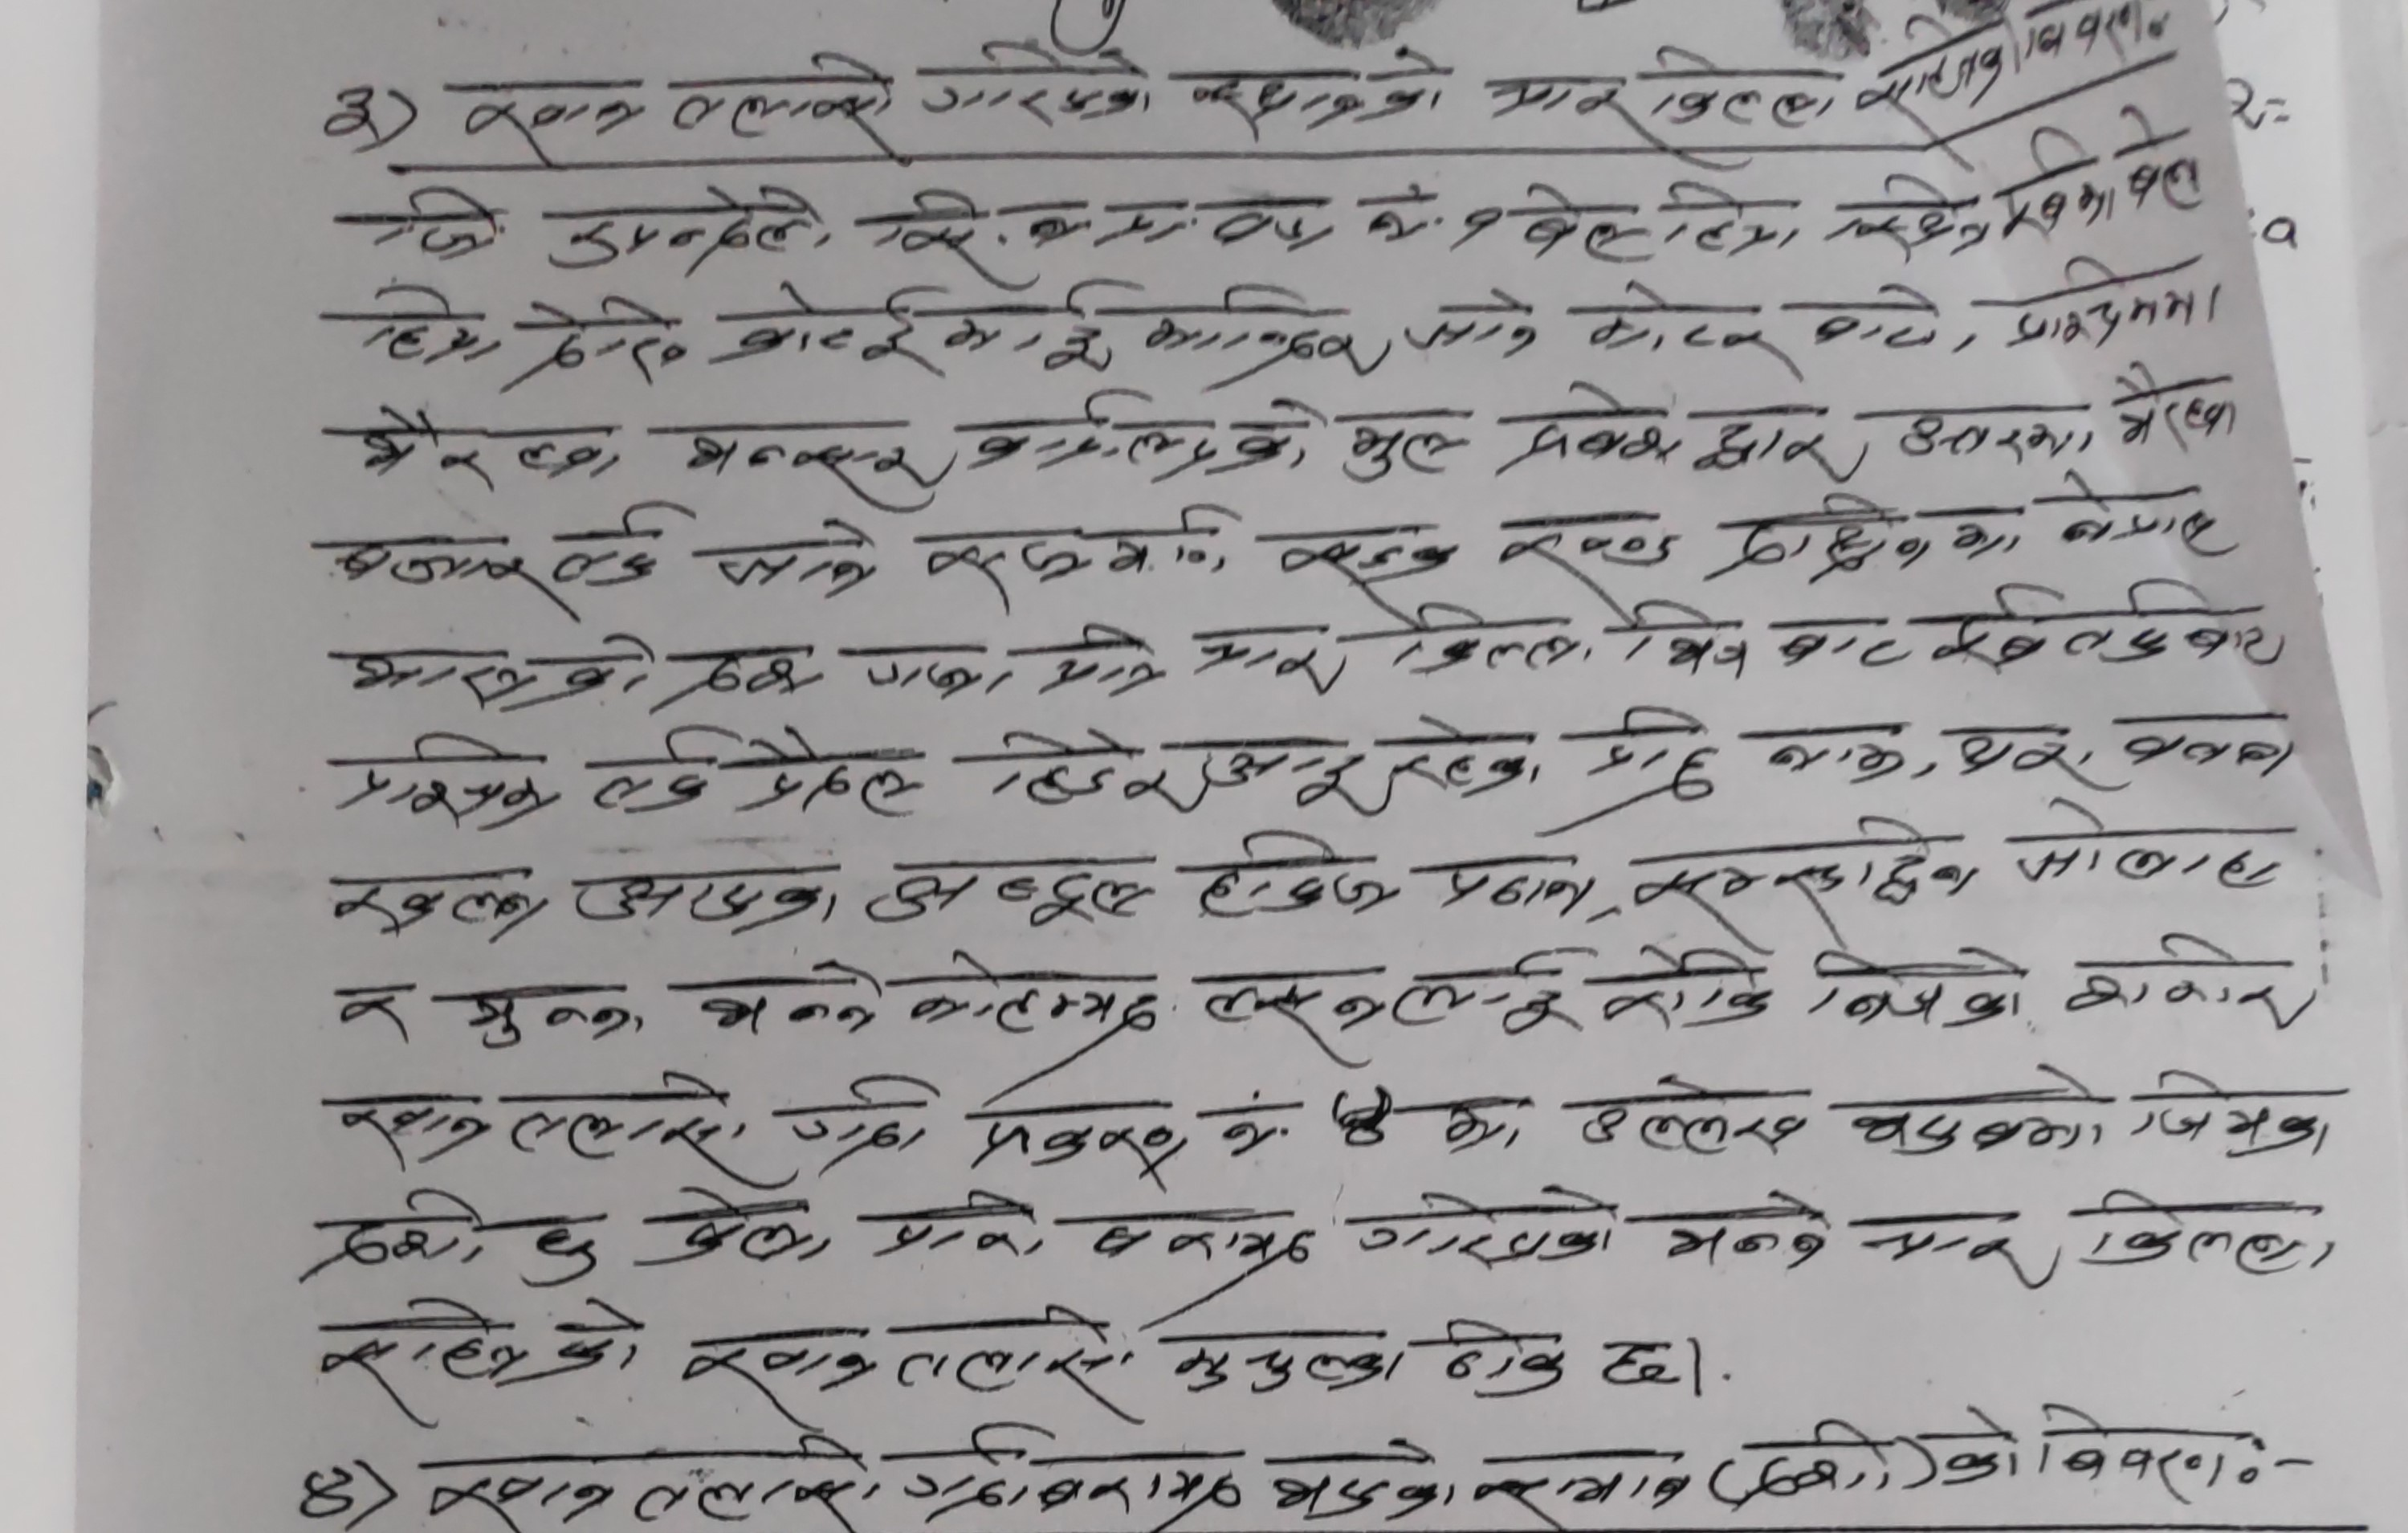text: (676, 1287, 1125, 1424), (1190, 932, 1583, 1073), (407, 1424, 876, 1533), (328, 1289, 649, 1421), (1627, 811, 1978, 931), (586, 715, 932, 832), (893, 1421, 1246, 1533), (1922, 576, 2299, 680), (964, 383, 1323, 490), (1473, 44, 1852, 140), (911, 500, 1241, 609), (488, 1054, 762, 1180), (872, 165, 1199, 267), (304, 1177, 611, 1284), (899, 948, 1167, 1069), (2004, 795, 2296, 906), (321, 620, 651, 715), (1137, 279, 1392, 395), (658, 414, 944, 516), (539, 174, 834, 272), (1845, 1062, 2118, 1168), (2085, 1184, 2341, 1296), (1722, 486, 2031, 579), (655, 49, 907, 160), (340, 400, 625, 499), (330, 727, 569, 843), (1339, 1184, 1622, 1280), (1990, 255, 2231, 365), (2022, 1391, 2238, 1514), (2064, 932, 2320, 1034), (1074, 1192, 1322, 1298), (1178, 47, 1451, 140), (920, 35, 1167, 132), (2038, 469, 2257, 576), (1559, 1073, 1811, 1162), (1190, 829, 1409, 931), (706, 281, 932, 379), (864, 859, 1160, 932), (967, 1099, 1197, 1194), (928, 279, 1130, 386), (1464, 1438, 1690, 1533), (2124, 1066, 2334, 1168), (316, 516, 539, 611), (1588, 927, 1785, 1034), (1802, 948, 2041, 1036), (1188, 718, 1383, 825), (983, 715, 1178, 820), (325, 862, 548, 954), (1265, 1429, 1460, 1533), (1362, 594, 1595, 680), (569, 864, 851, 932), (1996, 105, 2124, 255), (437, 65, 646, 156), (1164, 1322, 1409, 1400), (1494, 383, 1683, 483), (776, 1061, 946, 1171), (312, 279, 509, 374), (1574, 279, 1776, 371), (662, 1184, 839, 1287), (1852, 1194, 2038, 1292), (1653, 1177, 1832, 1278), (851, 1184, 1050, 1275), (702, 954, 890, 1048), (709, 507, 881, 609), (1176, 606, 1344, 709), (1892, 395, 2101, 478), (535, 500, 693, 609), (2106, 704, 2311, 787), (1583, 695, 1720, 817), (521, 290, 688, 388), (1494, 511, 1695, 592), (453, 978, 655, 1057), (1695, 388, 1848, 492), (1743, 1412, 1888, 1519), (1271, 520, 1473, 597), (1506, 174, 1657, 276), (1388, 709, 1550, 804), (1657, 169, 1811, 267), (1831, 170, 1996, 260), (839, 636, 1014, 718), (311, 1083, 491, 1162), (1418, 846, 1606, 922), (1434, 1313, 1580, 1408), (1023, 618, 1178, 704), (1193, 177, 1344, 263), (658, 636, 834, 709), (1339, 400, 1476, 492), (1404, 279, 1544, 367), (1618, 594, 1755, 683), (372, 183, 512, 263), (1802, 284, 1948, 362), (1755, 718, 1913, 787), (1943, 706, 2071, 790), (1425, 1083, 1548, 1168), (1771, 609, 1913, 678), (1936, 1400, 2022, 1507), (1315, 1075, 1416, 1162), (1202, 1083, 1309, 1162), (1348, 174, 1439, 258), (330, 975, 416, 1052), (1595, 1322, 1687, 1391), (290, 1454, 351, 1531), (316, 83, 384, 144), (1451, 191, 1509, 255)
